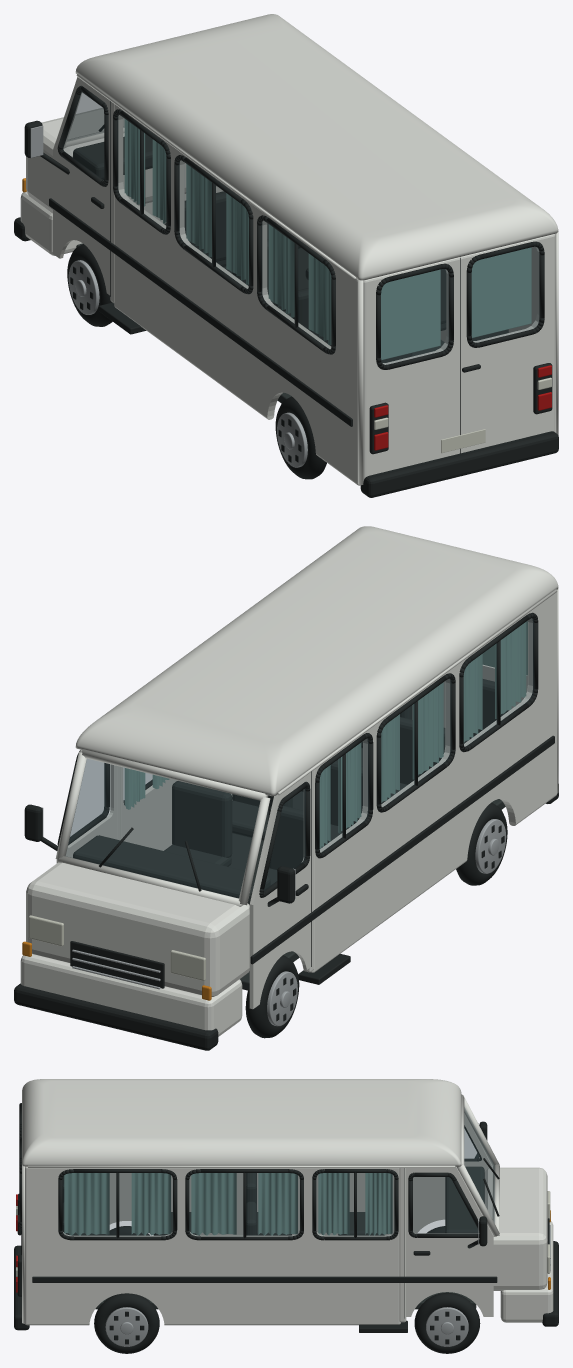
File: central-avenue-passenger-van.glb
The picture shows the model from 3 angles, top to bottom: view 1: azimuth 30°, elevation 25°; view 2: azimuth 150°, elevation 25°; view 3: azimuth 270°, elevation 25°; orthographic projection. The views are drawn at different scales.
Parts seen in each view (by area): view 1: Passenger van warm white enamel, Passenger van glazing, Passenger van rubber and seals, Passenger van pale blue green curtains, Passenger van dark interior upholstery, Passenger van wheel alloy, Passenger van pale lamp lenses, Passenger van red tail lenses; view 2: Passenger van warm white enamel, Passenger van glazing, Passenger van rubber and seals, Passenger van dark interior upholstery, Passenger van pale blue green curtains, Passenger van wheel alloy, Passenger van pale lamp lenses; view 3: Passenger van warm white enamel, Passenger van glazing, Passenger van rubber and seals, Passenger van pale blue green curtains, Passenger van dark interior upholstery, Passenger van wheel alloy.
Boxes of the visible parts, x1,y1,x2,y2 form: Passenger van warm white enamel: (20, 14, 558, 485); Passenger van glazing: (62, 92, 539, 364); Passenger van rubber and seals: (14, 85, 558, 497); Passenger van pale blue green curtains: (124, 119, 531, 360); Passenger van dark interior upholstery: (73, 134, 508, 403); Passenger van wheel alloy: (30, 125, 307, 467); Passenger van pale lamp lenses: (374, 377, 551, 453); Passenger van red tail lenses: (374, 365, 551, 450); Passenger van warm white enamel: (20, 526, 558, 1036); Passenger van glazing: (66, 618, 533, 898); Passenger van rubber and seals: (14, 612, 558, 1050); Passenger van dark interior upholstery: (73, 679, 508, 990); Passenger van pale blue green curtains: (124, 621, 527, 848); Passenger van wheel alloy: (40, 807, 506, 1026); Passenger van pale lamp lenses: (28, 915, 205, 980); Passenger van warm white enamel: (22, 1079, 553, 1325); Passenger van glazing: (63, 1107, 494, 1236); Passenger van rubber and seals: (14, 1103, 558, 1353); Passenger van pale blue green curtains: (64, 1173, 392, 1235); Passenger van dark interior upholstery: (62, 1166, 484, 1309); Passenger van wheel alloy: (105, 1123, 550, 1346).
Size of the model in its own units: 2.72 by 2.65 by 6.22.
